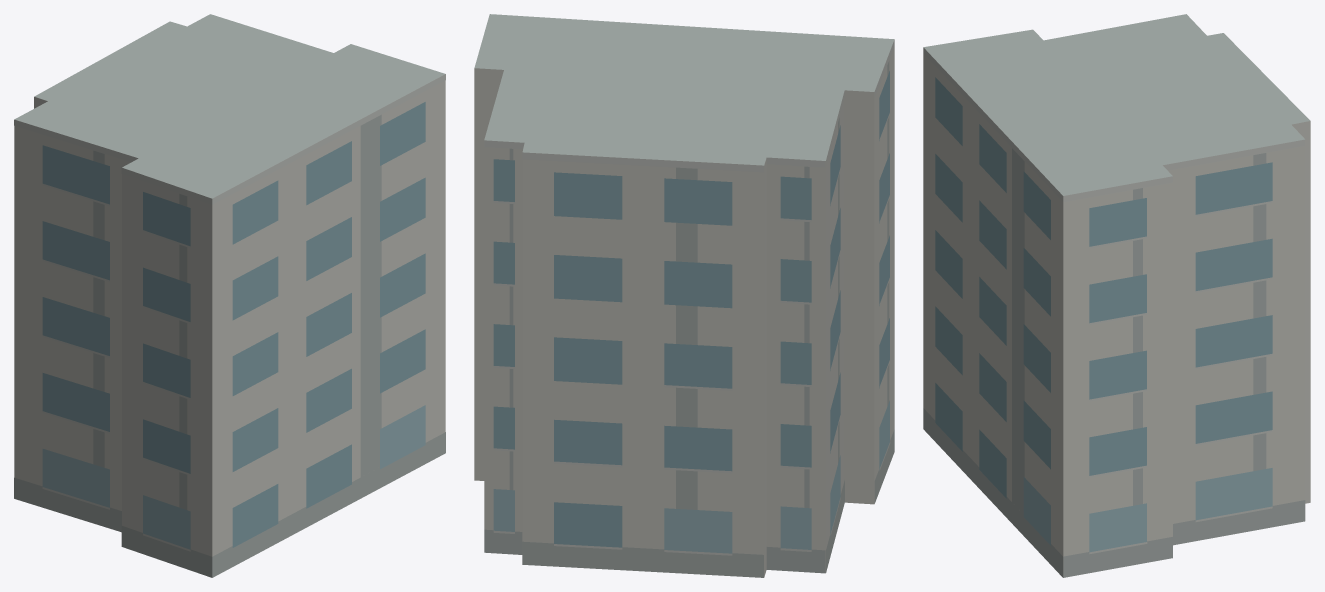
Rendered from survey-upis-32761082.glb.
3 views of the same model, side by side, from view 1: azimuth 30°, elevation 25°; view 2: azimuth 150°, elevation 25°; view 3: azimuth 270°, elevation 25° (orthographic). The views are drawn at different scales.
Visible parts, largest first — view 1: survey-upis-32761082.tmp; view 2: survey-upis-32761082.tmp; view 3: survey-upis-32761082.tmp.
Part boxes in pixels (bbox=[...]): survey-upis-32761082.tmp: bbox=[14, 14, 445, 577]; survey-upis-32761082.tmp: bbox=[474, 14, 894, 577]; survey-upis-32761082.tmp: bbox=[923, 14, 1310, 577].
Size of the model in its own units: 15.04 by 14.7 by 13.52.
